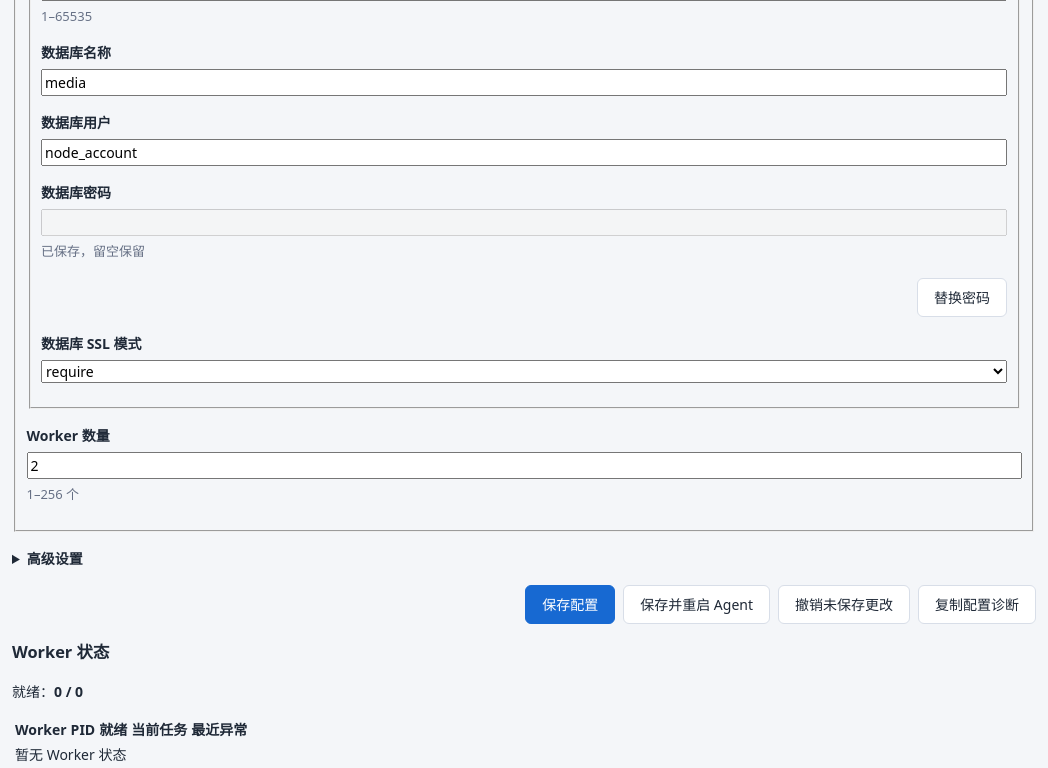
Test case: AgentPage › Agent 已落盘但后续失败时仍刷新并显示错误
(page scrolled)
Click the button "保存配置".
click(570, 604)  # box [525,585,615,624]
(page scrolled)
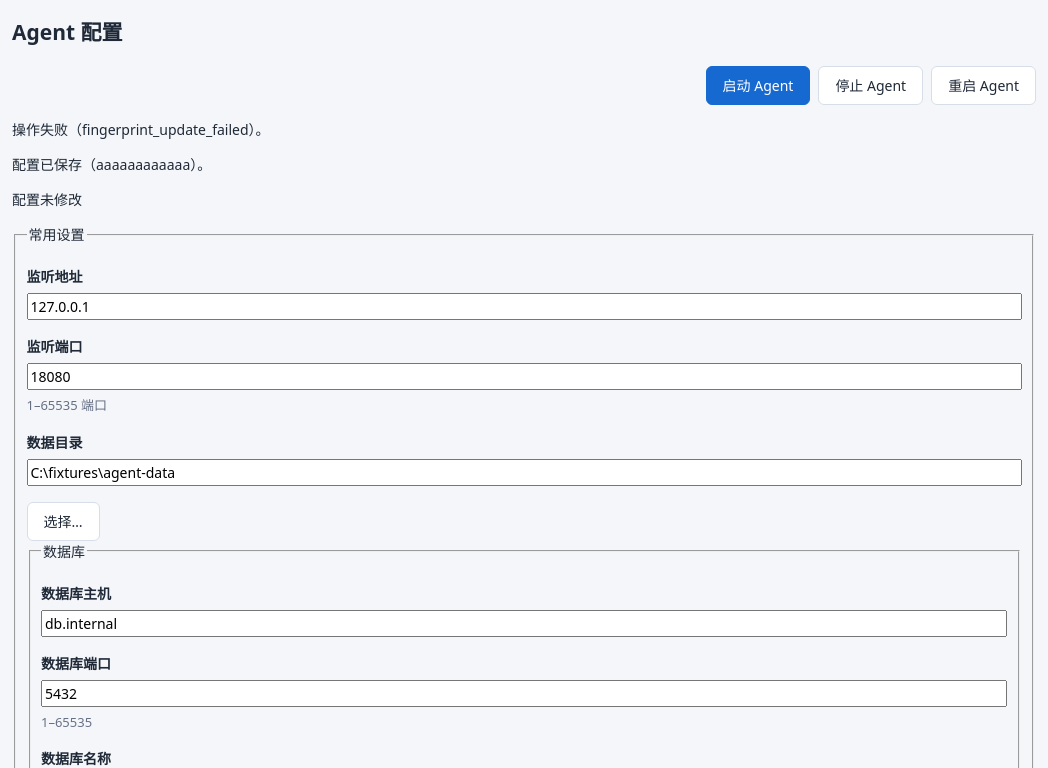
Expected: the text "配置未修改" is shown, [12,190,82,209]
Expected: the message "操作失败（fingerprint_update_failed）。" is shown, [12,120,270,139]
